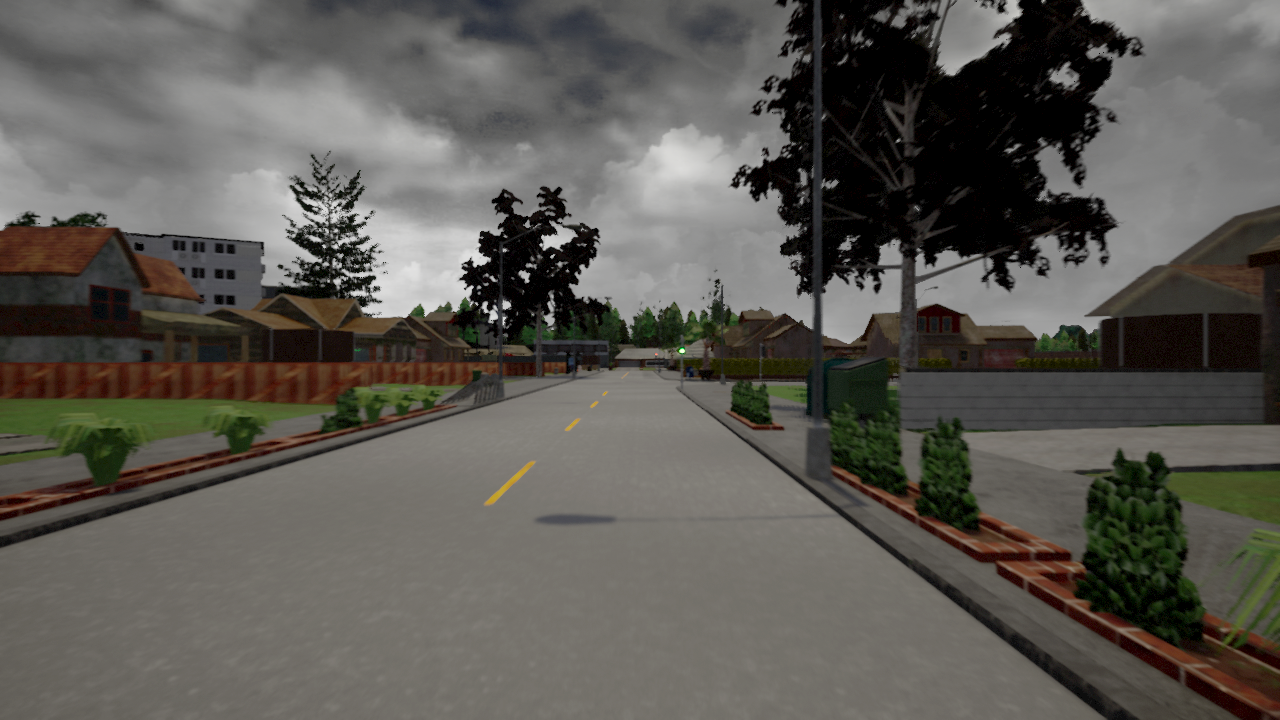green: (678, 338, 686, 354)
